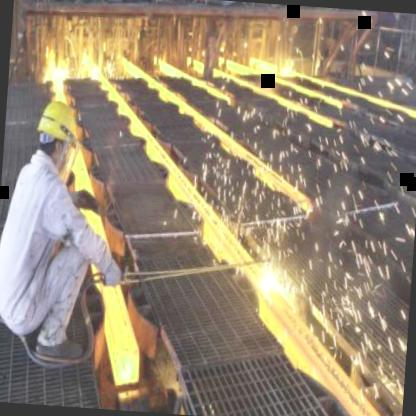helmet: (32, 100, 78, 176)
